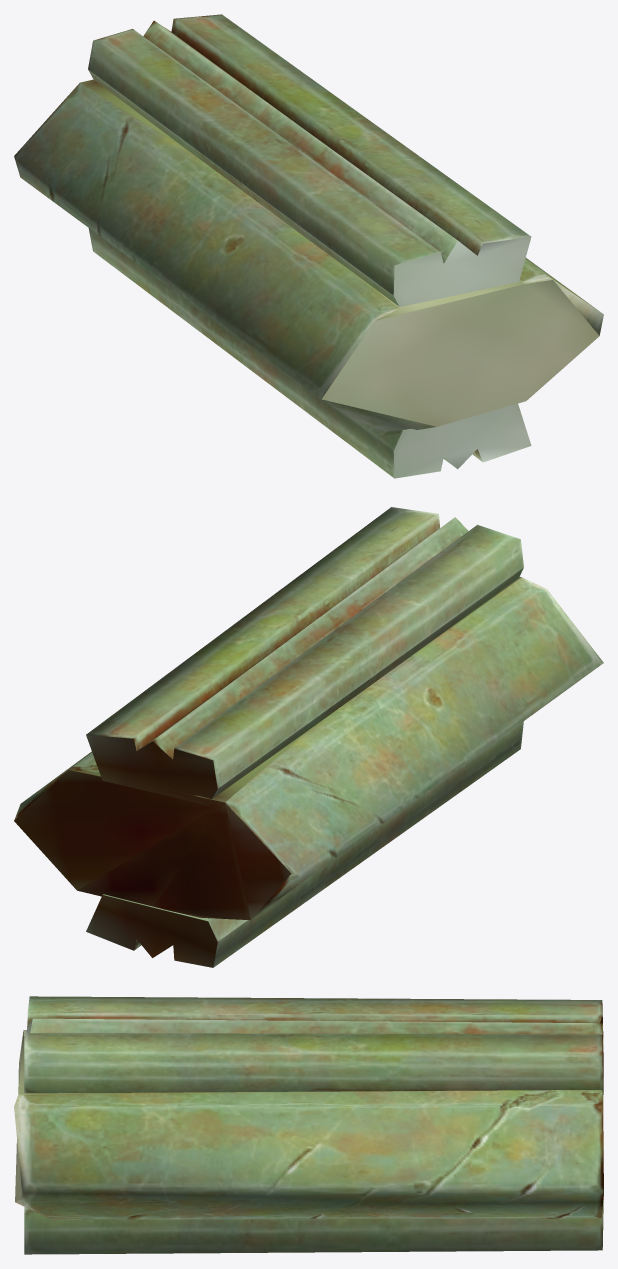
Rendered from Ruins_Collumn_8M_A.fbx.
3 renders of one model, top to bottom at view 1: azimuth 30°, elevation 25°; view 2: azimuth 150°, elevation 25°; view 3: azimuth 270°, elevation 25°, orthographic. The views are drawn at different scales.
Visible parts, largest first — view 1: Ruins_Collumn_8M_A; view 2: Ruins_Collumn_8M_A; view 3: Ruins_Collumn_8M_A.
Part boxes in pixels (<box>): Ruins_Collumn_8M_A: <box>14,14,603,478</box>; Ruins_Collumn_8M_A: <box>14,507,603,967</box>; Ruins_Collumn_8M_A: <box>14,996,603,1254</box>.
Size of the model in its own units: 429 by 327 by 817.
